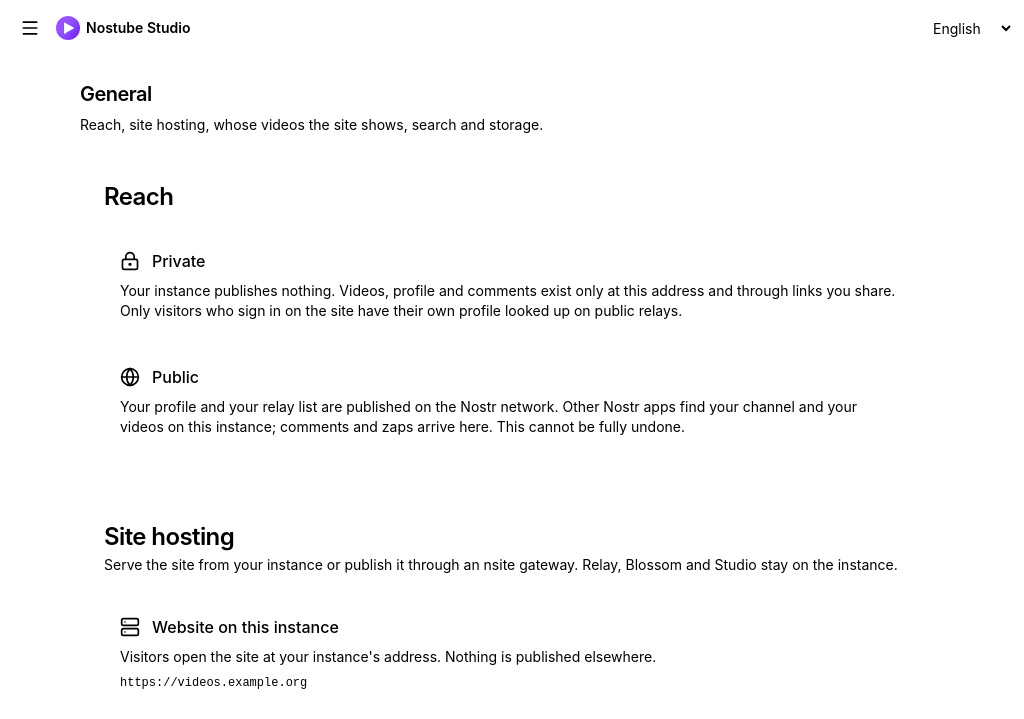
Test case: Studio save bar › cancels switching nsite to instance without changing settings
What coordinates should you click on to do the following:
click the button "Website on this instance"
I would click on:
 (512, 653)
Its box is [104,599,920,707].
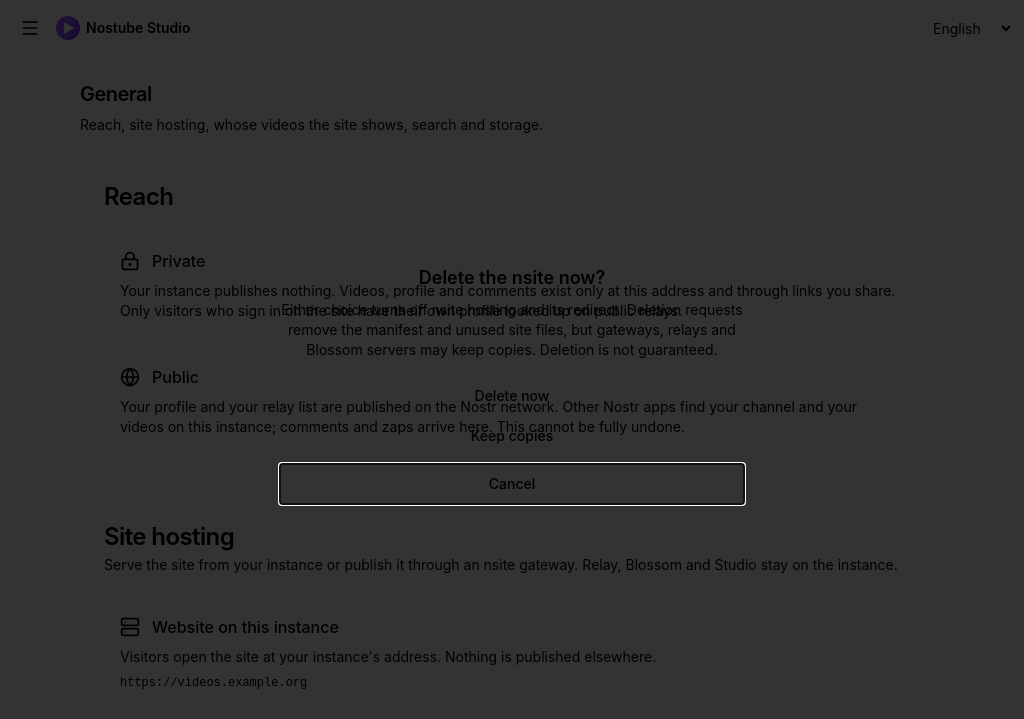
Expected: the dialog is shown, [256,240,768,528]
What coordinates should you click on to do the following:
click the button "Cancel"
I would click on:
 (512, 484)
Its box is [280,464,744,504].
(page scrolled)
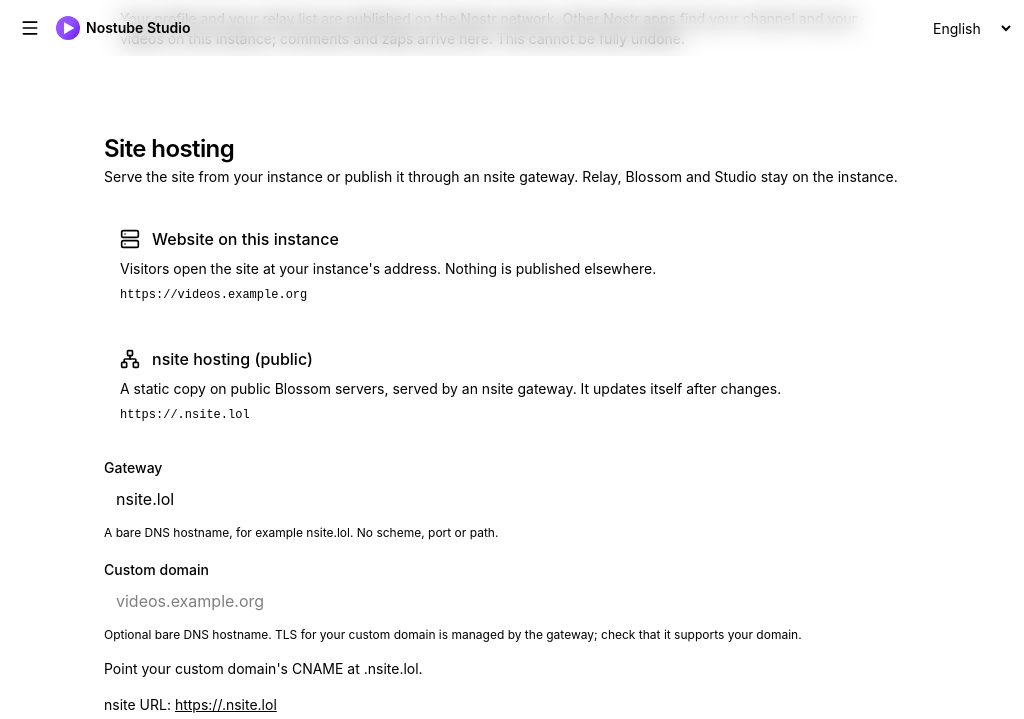
Expected: the dialog is gone
